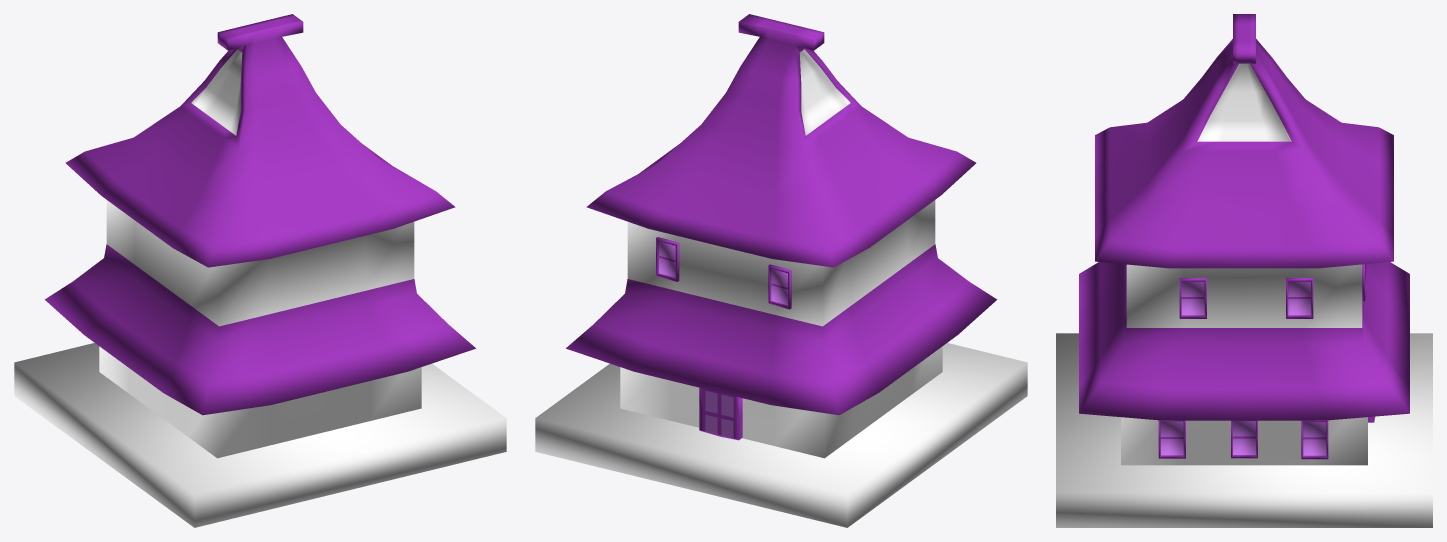
File: japanesehouse3.fbx
3 views of the same model, side by side, from view 1: azimuth 30°, elevation 25°; view 2: azimuth 150°, elevation 25°; view 3: azimuth 270°, elevation 25° (orthographic). The views are drawn at different scales.
Visible parts, largest first — view 1: Cube; view 2: Cube, Cube.002, Cube.001, Cube.008, Cube.009; view 3: Cube, Cube.006, Cube.007, Cube.005, Cube.004, Cube.003.
Part boxes in pixels (x1=…): Cube: x1=14, y1=14, x2=506, y2=527; Cube: x1=535, y1=14, x2=1027, y2=527; Cube.002: x1=699, y1=387, x2=742, y2=439; Cube.001: x1=705, y1=390, x2=733, y2=438; Cube.008: x1=768, y1=264, x2=791, y2=309; Cube.009: x1=656, y1=237, x2=679, y2=281; Cube: x1=1056, y1=14, x2=1432, y2=527; Cube.006: x1=1286, y1=278, x2=1313, y2=318; Cube.007: x1=1179, y1=278, x2=1206, y2=318; Cube.005: x1=1301, y1=420, x2=1328, y2=459; Cube.004: x1=1158, y1=420, x2=1185, y2=458; Cube.003: x1=1231, y1=420, x2=1257, y2=458.
Size of the model in its own units: 171 by 208 by 171.
